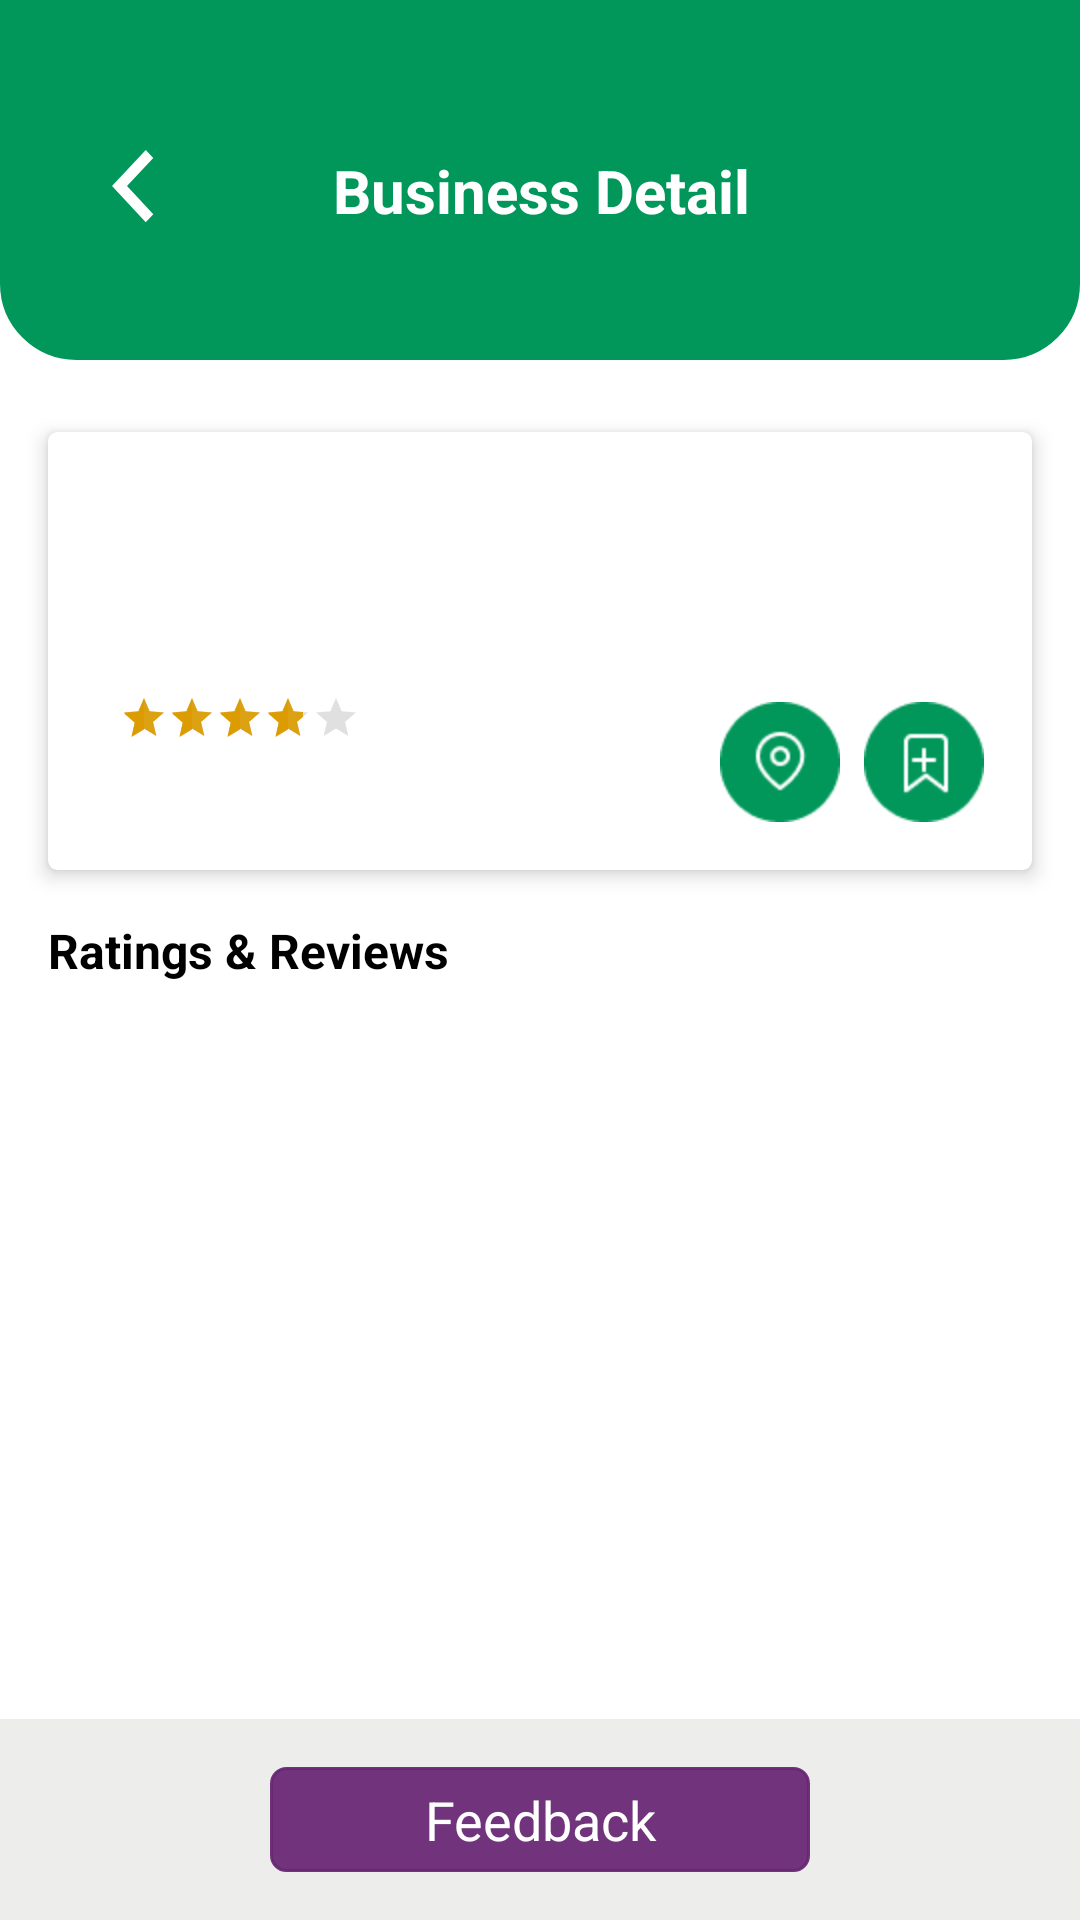

Icons on this 1080×1920 Android screen, each with the point to tap as (x,y):
back: (132,186)
favorite: (924,762)
location: (780,762)
